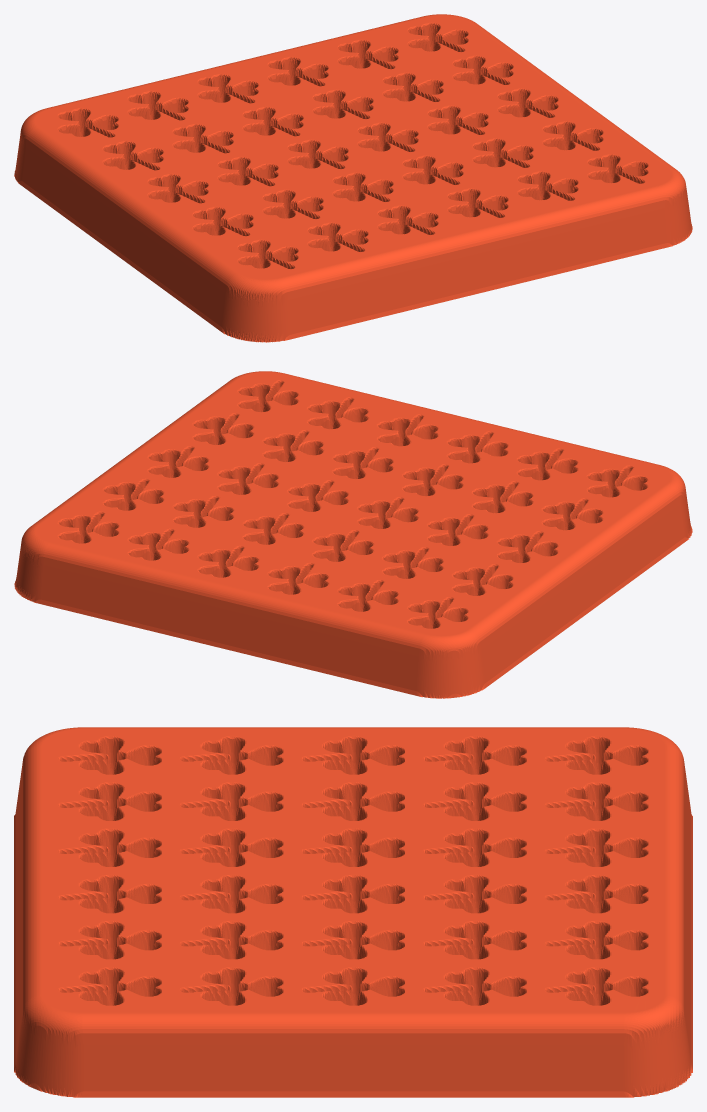
File: mold.glb
The picture shows the model from 3 angles, top to bottom: view 1: azimuth 30°, elevation 25°; view 2: azimuth 150°, elevation 25°; view 3: azimuth 270°, elevation 25°; orthographic projection. The views are drawn at different scales.
Visible parts, largest first — view 1: geometry_0; view 2: geometry_0; view 3: geometry_0.
Boxes of the visible parts, bbox=[...] form: geometry_0: bbox=[14, 14, 692, 342]; geometry_0: bbox=[14, 371, 692, 698]; geometry_0: bbox=[14, 727, 692, 1097].
Size of the model in its own units: 0.0944 by 0.0105 by 0.0882.
